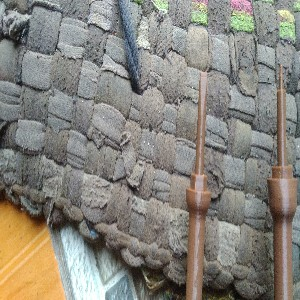obeng: (185, 70, 212, 300)
solder: (266, 61, 299, 300)
